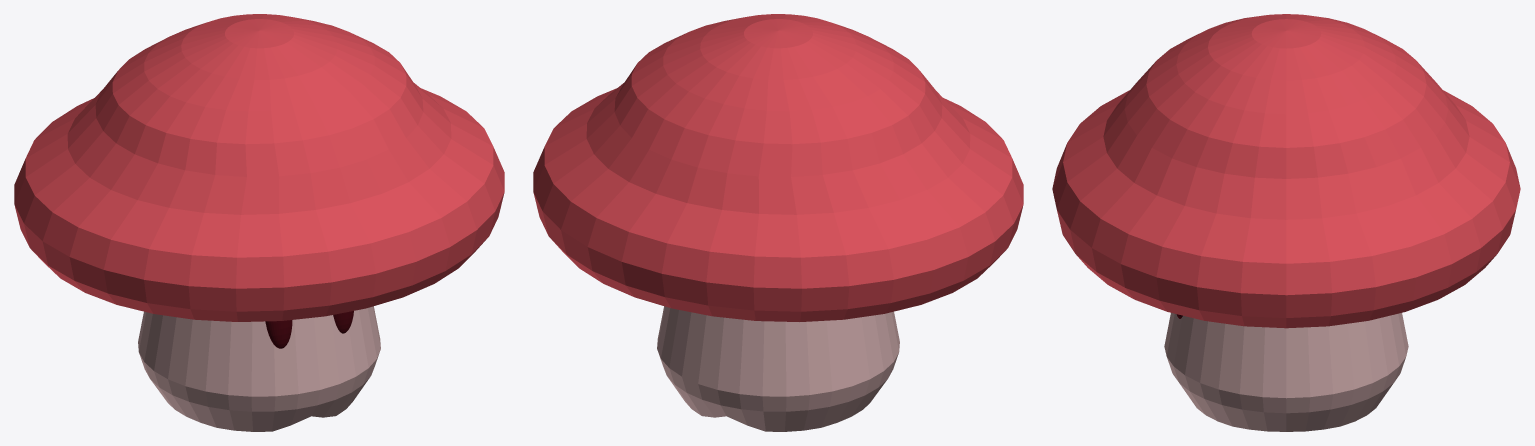
File: Mushroam.fbx
3 views of the same model, side by side, from view 1: azimuth 30°, elevation 25°; view 2: azimuth 150°, elevation 25°; view 3: azimuth 270°, elevation 25° (orthographic).
Parts seen in each view (by area): view 1: MushroomCap, MushroomBody, MushroomEyeL; view 2: MushroomCap, MushroomBody; view 3: MushroomCap, MushroomBody.
Boxes of the visible parts, x1,y1,x2,y2 form: MushroomCap: (14,14,504,321); MushroomBody: (138,306,380,431); MushroomEyeL: (265,320,292,348); MushroomCap: (533,14,1023,321); MushroomBody: (657,306,899,431); MushroomCap: (1052,14,1520,328); MushroomBody: (1164,313,1408,431).
Bounding box in the file's own units: 282 × 224 × 263.
